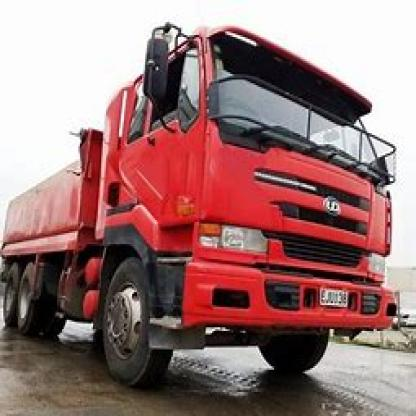dump_truck: (10, 24, 406, 385)
